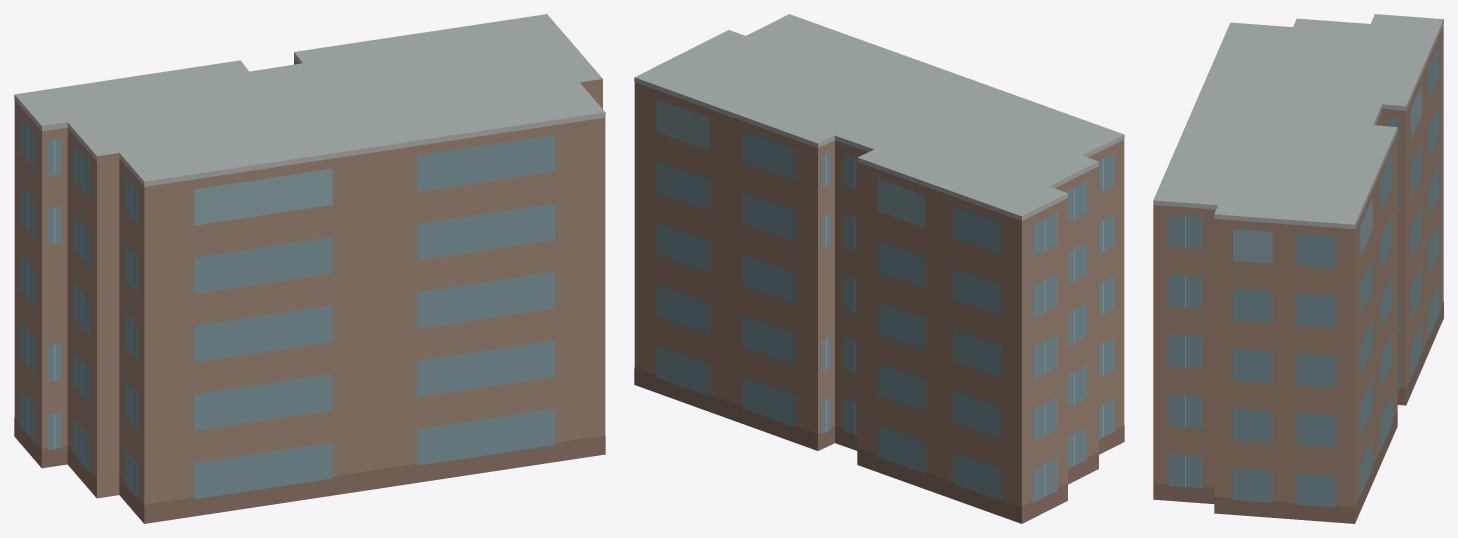
The model's file is survey-upis-32706197.glb.
3 renders of one model, left to right at view 1: azimuth 30°, elevation 25°; view 2: azimuth 150°, elevation 25°; view 3: azimuth 270°, elevation 25°, orthographic. The views are drawn at different scales.
Parts seen in each view (by area): view 1: survey-upis-32706197.tmp; view 2: survey-upis-32706197.tmp; view 3: survey-upis-32706197.tmp.
Boxes of the visible parts, x1,y1,x2,y2 form: survey-upis-32706197.tmp: [14, 14, 605, 523]; survey-upis-32706197.tmp: [634, 14, 1124, 523]; survey-upis-32706197.tmp: [1153, 14, 1443, 523].
Size of the model in its own units: 24.33 by 16.1 by 14.18.
